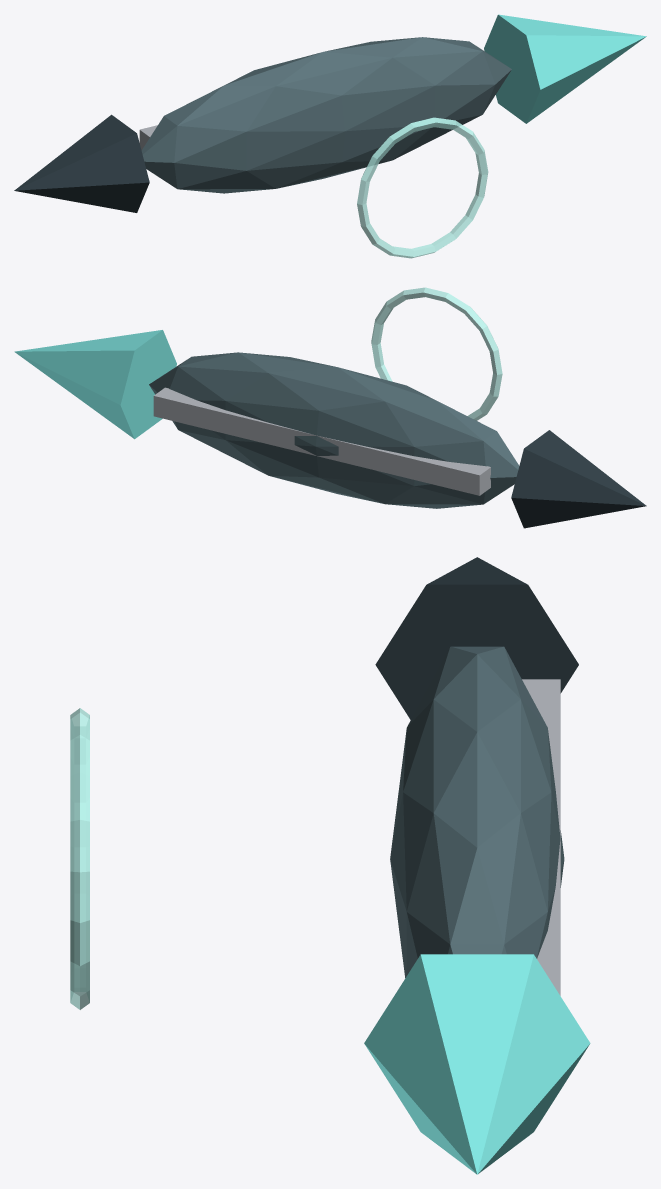
File: 05_skyship_hull.glb
The picture shows the model from 3 angles, top to bottom: view 1: azimuth 30°, elevation 25°; view 2: azimuth 150°, elevation 25°; view 3: azimuth 270°, elevation 25°; orthographic projection. The views are drawn at different scales.
Visible parts, largest first — view 1: hull_low_poly, bow_upgrade, stern_fin, size_class_ring; view 2: hull_low_poly, bow_upgrade, keel_plate, stern_fin, size_class_ring; view 3: hull_low_poly, bow_upgrade, stern_fin, size_class_ring, keel_plate.
Boxes of the visible parts, x1,y1,x2,y2 form: hull_low_poly: (141,37,511,193); bow_upgrade: (484,14,646,123); stern_fin: (14,114,149,212); size_class_ring: (357,117,488,258); hull_low_poly: (149,352,519,508); bow_upgrade: (14,330,176,439); keel_plate: (153,387,490,495); stern_fin: (511,430,646,528); size_class_ring: (371,287,502,420); hull_low_poly: (390,646,564,977); bow_upgrade: (364,954,590,1174); stern_fin: (375,557,578,719); size_class_ring: (70,708,89,1009); keel_plate: (522,679,560,995).
Bounding box in the file's own units: 7.23 × 1.48 × 2.57.
